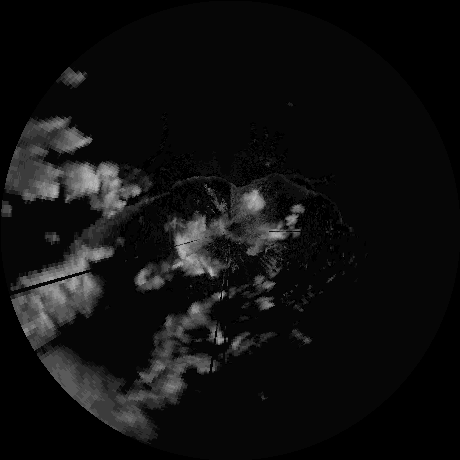frontgust: (136, 174, 237, 206), (241, 170, 319, 199)
